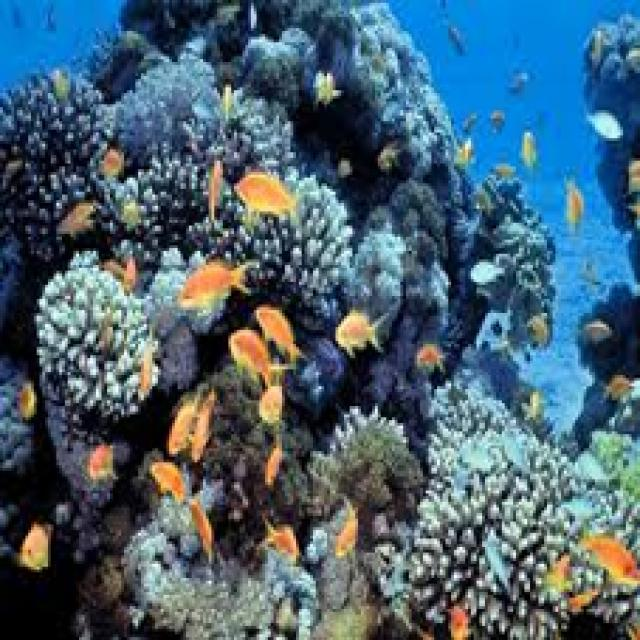Healthy: (1, 57, 345, 314), (122, 4, 446, 187), (410, 384, 638, 638), (370, 170, 554, 365), (128, 497, 308, 638), (38, 252, 159, 435), (1, 74, 97, 260), (311, 410, 421, 528)
